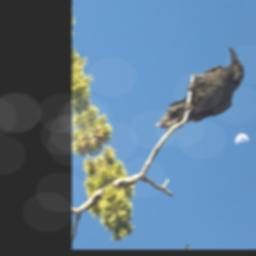Crow: (143, 41, 253, 148)
